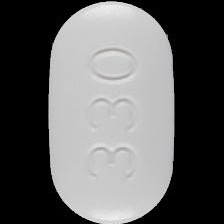63187-757: (0, 0, 224, 224)
